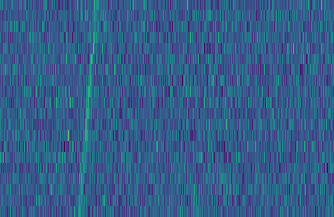signal: (72, 0, 99, 217)
